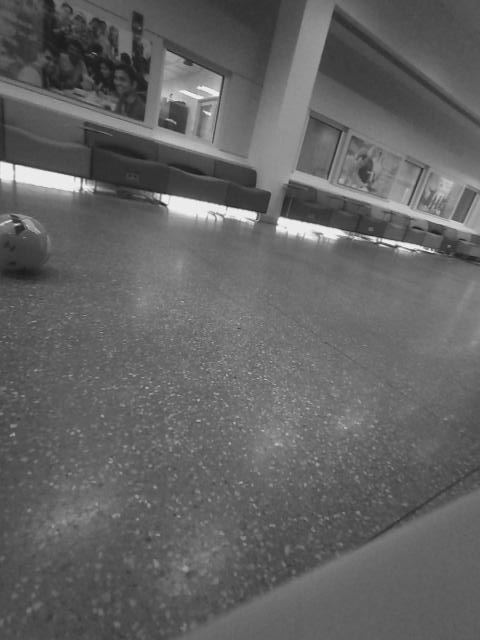ball: (252, 286, 271, 304)
